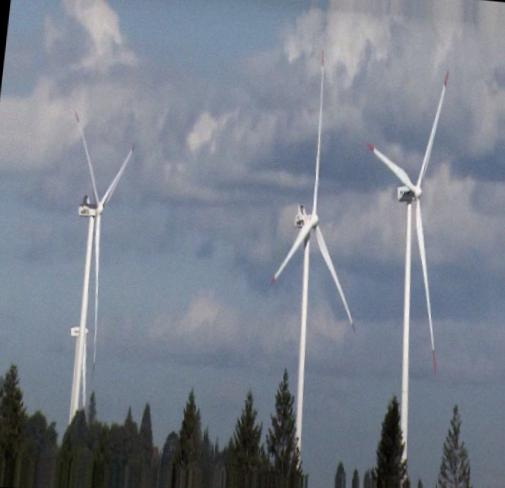wind turbine: (271, 48, 355, 455), (367, 69, 450, 464), (69, 108, 138, 415)
